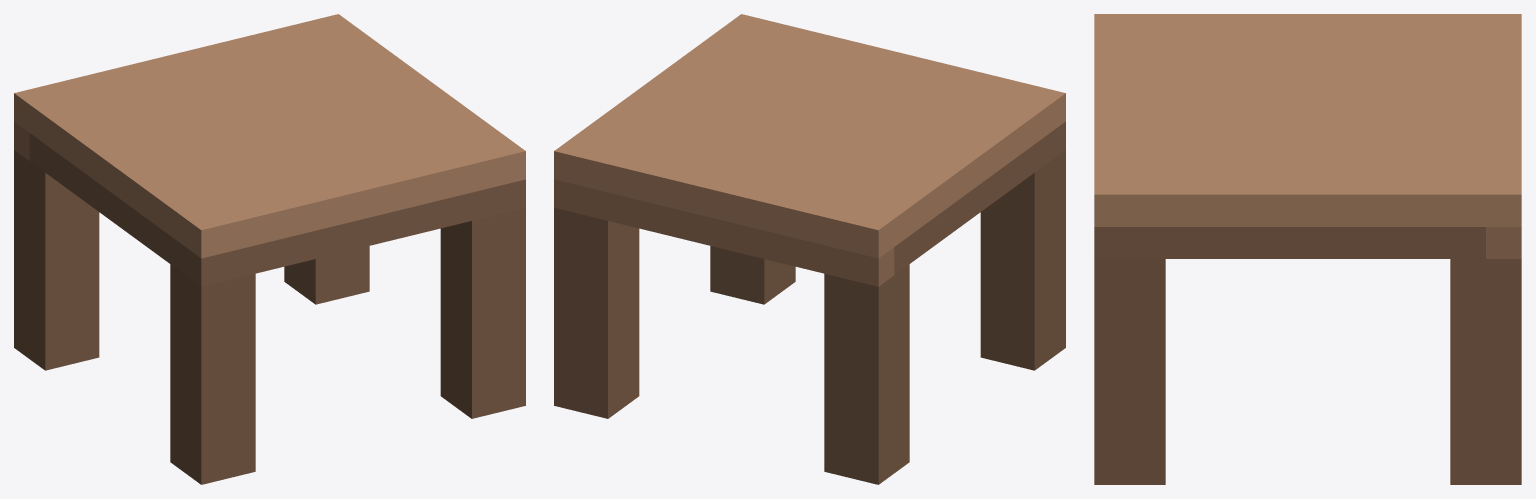
The model's file is yunque_armadura_oxidado_01.glb.
3 views of the same model, side by side, from view 1: azimuth 30°, elevation 25°; view 2: azimuth 150°, elevation 25°; view 3: azimuth 270°, elevation 25° (orthographic). The views are drawn at different scales.
Visible parts, largest first — view 1: yunque_armadura_oxidado; view 2: yunque_armadura_oxidado; view 3: yunque_armadura_oxidado.
Part boxes in pixels (x1,y1,x2,y2): yunque_armadura_oxidado: (14, 14, 525, 484); yunque_armadura_oxidado: (554, 14, 1065, 484); yunque_armadura_oxidado: (1094, 14, 1521, 484).
Bounding box in the file's own units: 1 × 0.75 × 1.
